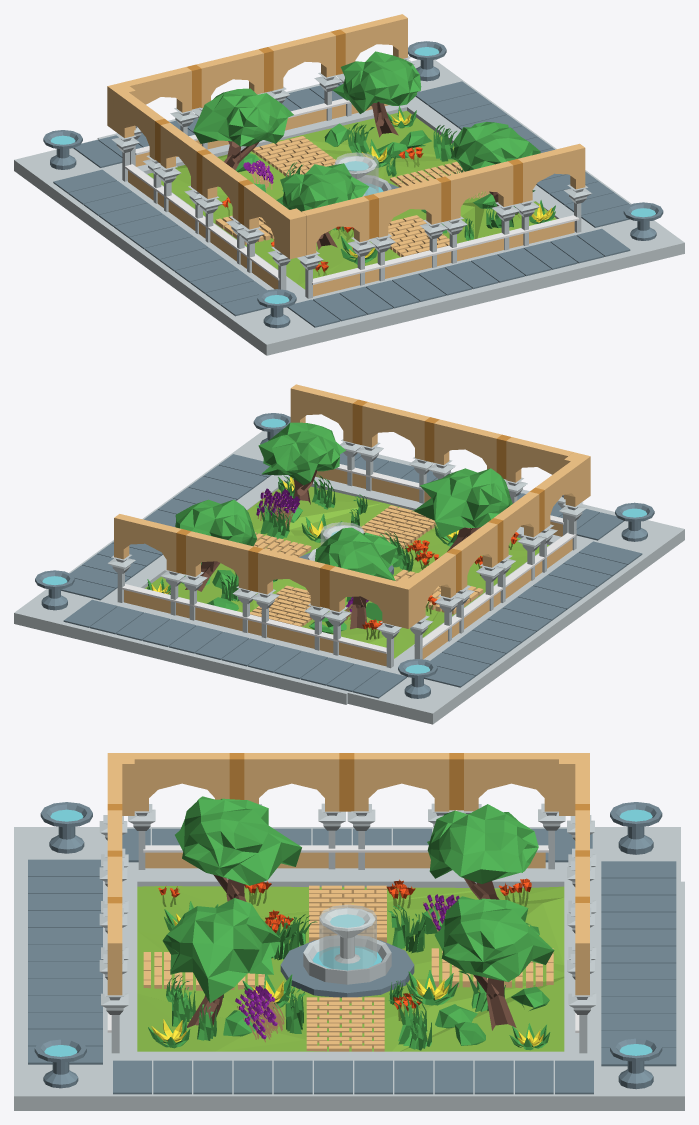
The model's file is Cloister Garden.glb.
3 renders of one model, top to bottom at view 1: azimuth 30°, elevation 25°; view 2: azimuth 150°, elevation 25°; view 3: azimuth 270°, elevation 25°, orthographic. The views are drawn at different scales.
Parts seen in each view (by area): view 1: Node; view 2: Node; view 3: Node.
Part boxes in pixels (left/top/right/bottom): Node: left=14, top=14, right=684, bottom=355; Node: left=14, top=384, right=684, bottom=724; Node: left=14, top=753, right=684, bottom=1110.
Bounding box in the file's own units: 4.76 × 1.08 × 5.01.
